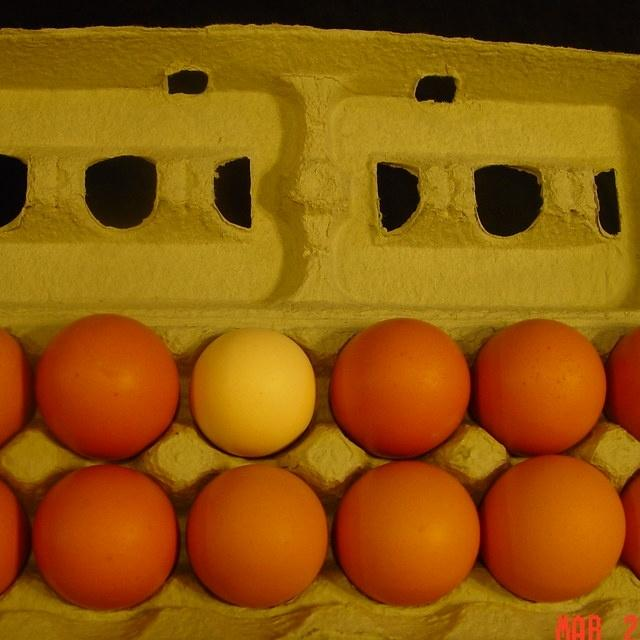egg: (31, 463, 178, 611), (480, 454, 626, 603), (333, 460, 480, 607), (34, 313, 179, 460), (185, 463, 328, 608), (328, 317, 471, 459), (473, 318, 606, 455), (189, 327, 316, 457), (607, 316, 640, 454)
